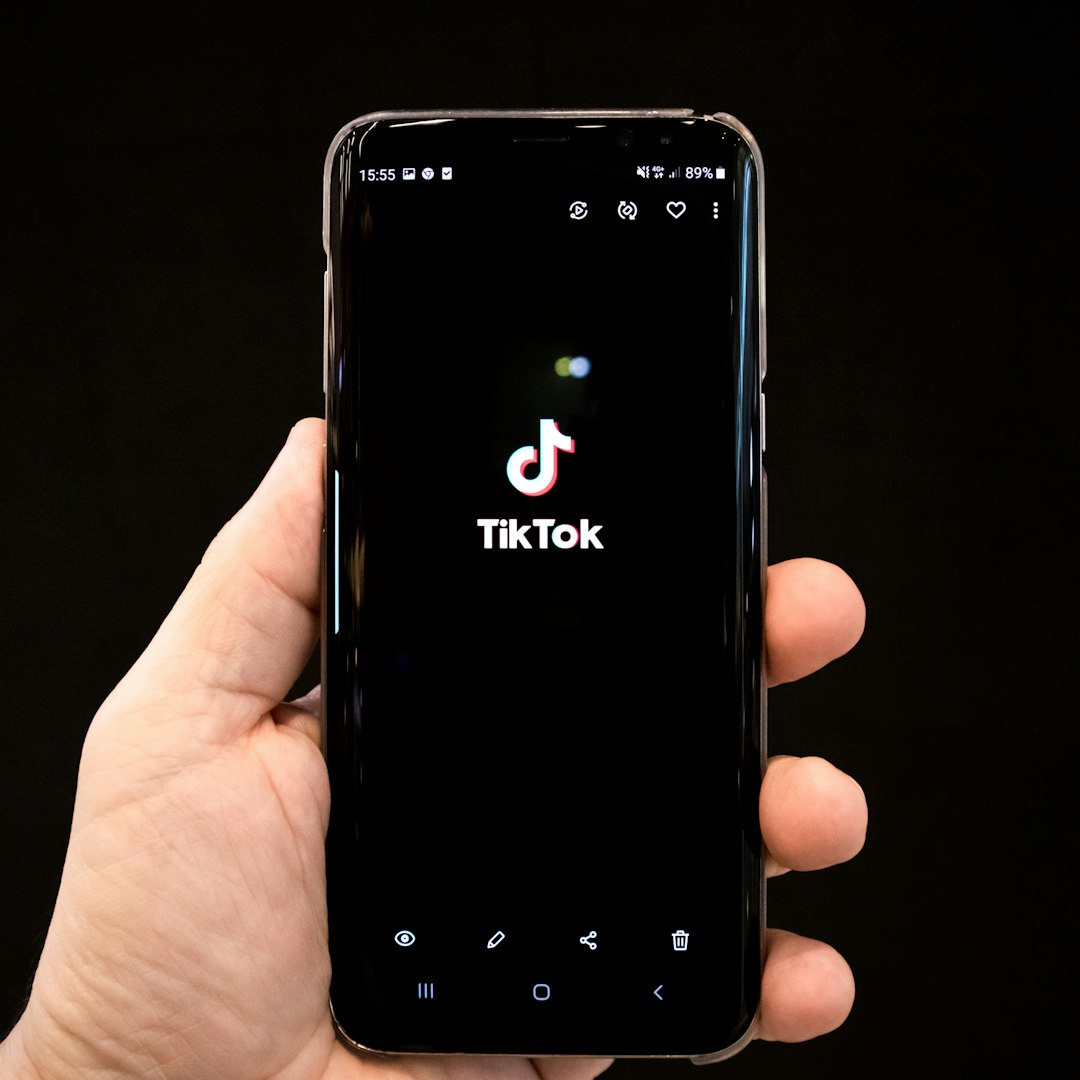phone: (319, 110, 766, 1067)
